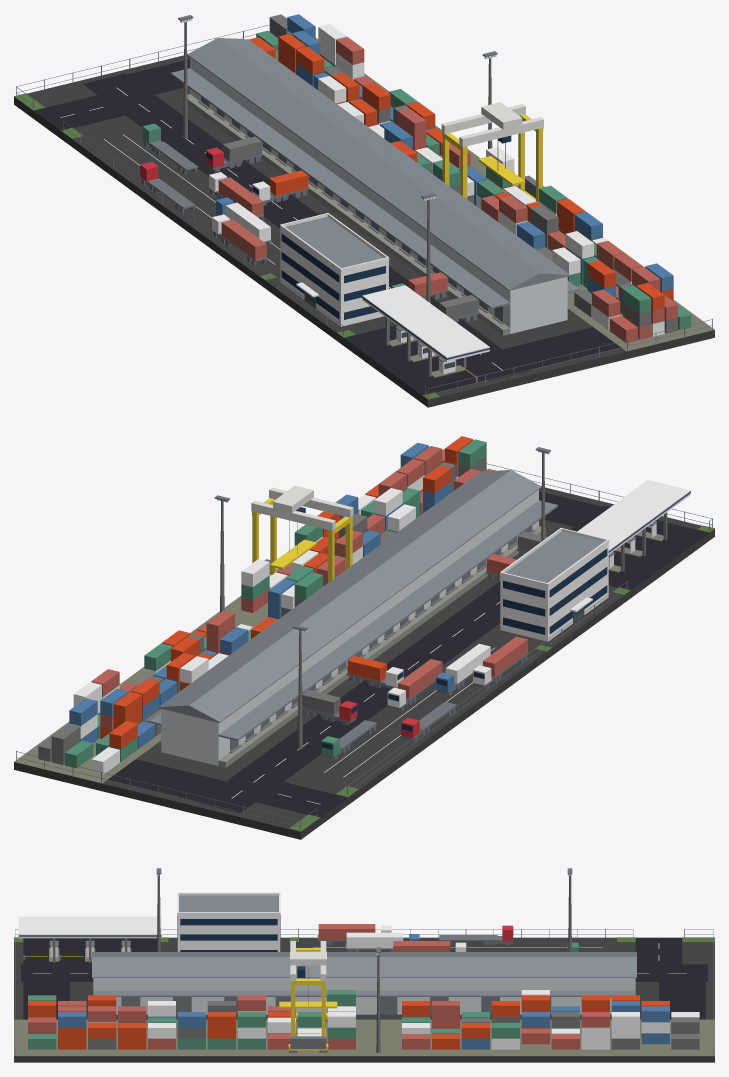
Rendered from top-prebuilt.fbx.
3 renders of one model, top to bottom at view 1: azimuth 30°, elevation 25°; view 2: azimuth 150°, elevation 25°; view 3: azimuth 270°, elevation 25°, orthographic. The views are drawn at different scales.
Parts seen in each view (by area): view 1: a404_0_top-prebuilt; view 2: a404_0_top-prebuilt; view 3: a404_0_top-prebuilt.
Boxes of the visible parts, x1,y1,x2,y2 form: a404_0_top-prebuilt: [14, 14, 714, 407]; a404_0_top-prebuilt: [14, 436, 714, 839]; a404_0_top-prebuilt: [14, 868, 714, 1062].
Bounding box in the file's own units: 60 × 25.75 × 150.
